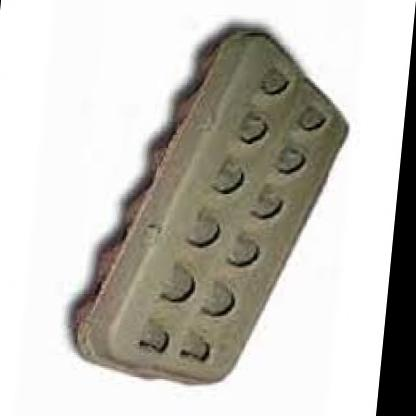Paper: (38, 7, 377, 400)
